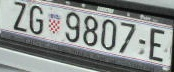0: (99, 11, 116, 53)
7: (118, 13, 136, 58)
8: (83, 6, 99, 49)
9: (63, 1, 81, 45)
E: (146, 23, 167, 64)
G: (28, 0, 45, 35)
Z: (10, 2, 28, 33)
